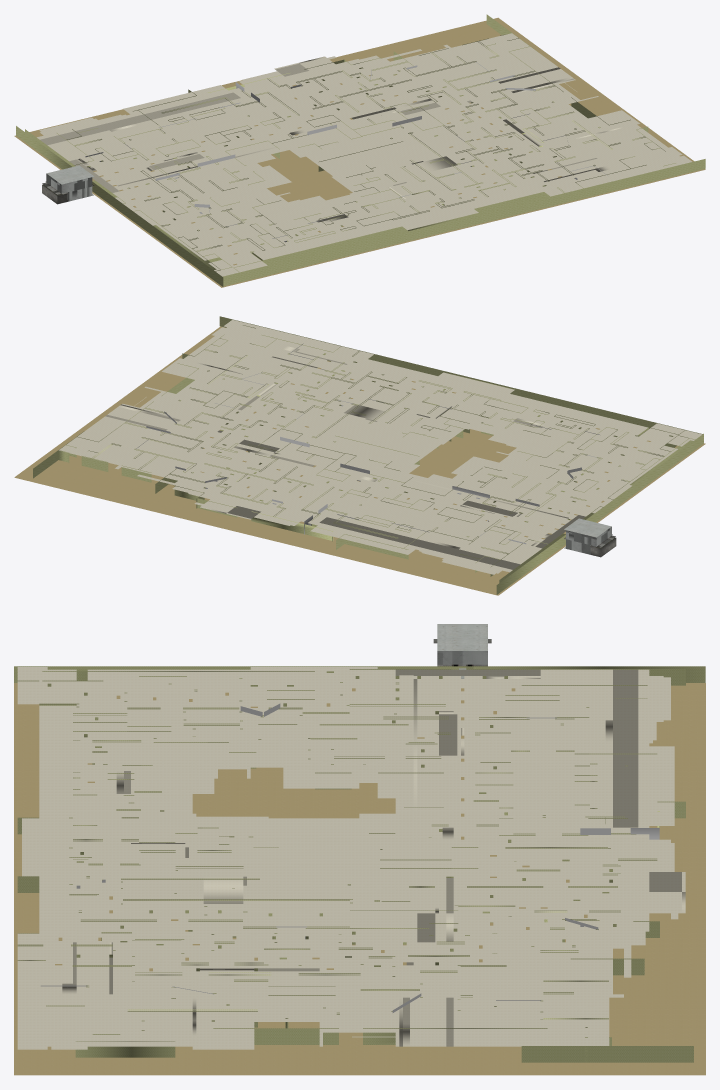
Rendered from kcl.obj.
3 views of the same model, one above another, from view 1: azimuth 30°, elevation 25°; view 2: azimuth 150°, elevation 25°; view 3: azimuth 270°, elevation 25° (orthographic). The views are drawn at different scales.
Parts seen in each view (by area): view 1: ceiling, wall, floor, out_of_bounds; view 2: ceiling, wall, floor, out_of_bounds; view 3: ceiling, floor, wall, out_of_bounds.
Boxes of the visible parts, x1,y1,x2,y2 form: ceiling: [37, 33, 691, 276]; wall: [16, 14, 705, 286]; floor: [14, 17, 705, 287]; out_of_bounds: [85, 62, 607, 242]; ceiling: [59, 319, 702, 574]; wall: [33, 316, 703, 594]; floor: [14, 326, 705, 595]; out_of_bounds: [136, 343, 599, 544]; ceiling: [17, 624, 685, 1049]; floor: [14, 668, 705, 1075]; wall: [14, 639, 705, 1062]; out_of_bounds: [41, 703, 659, 1012].
Bounding box in the file's own units: 106510 × 4527 × 73329.
